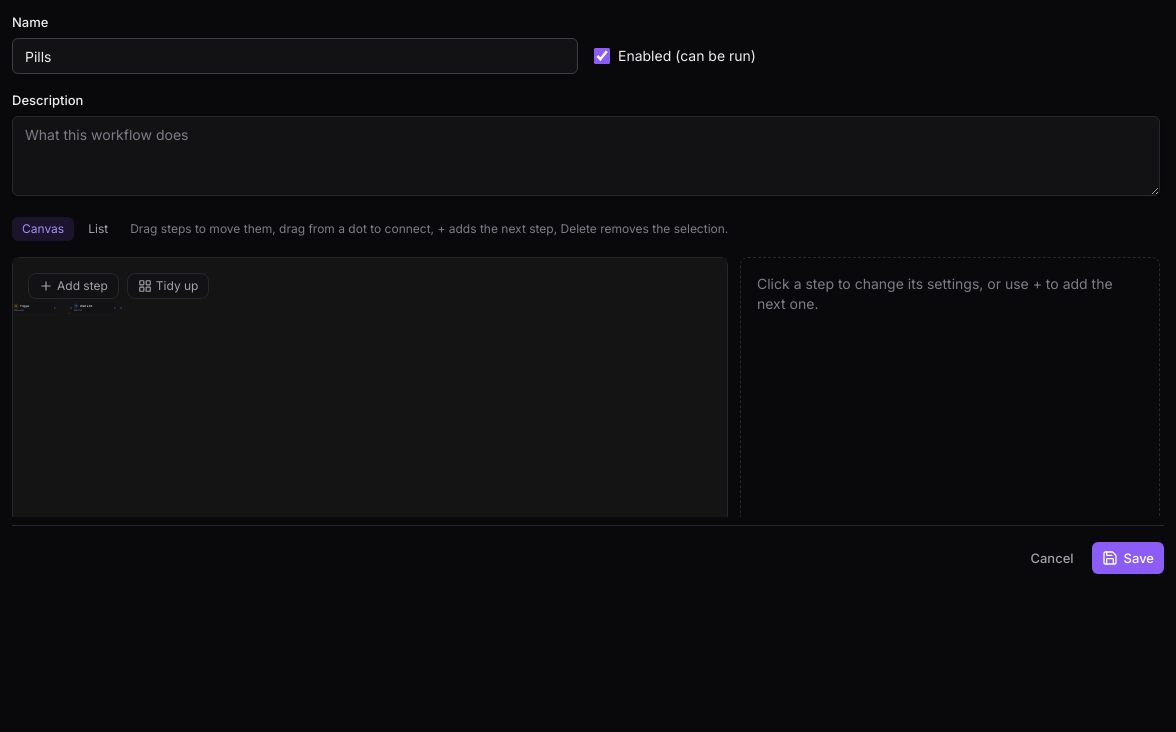
it: the canvas shows every step; clicking one opens its settings beside the canvas
Step 1. Click the text "Wait a bit" → (86, 306), box [80, 304, 92, 308]
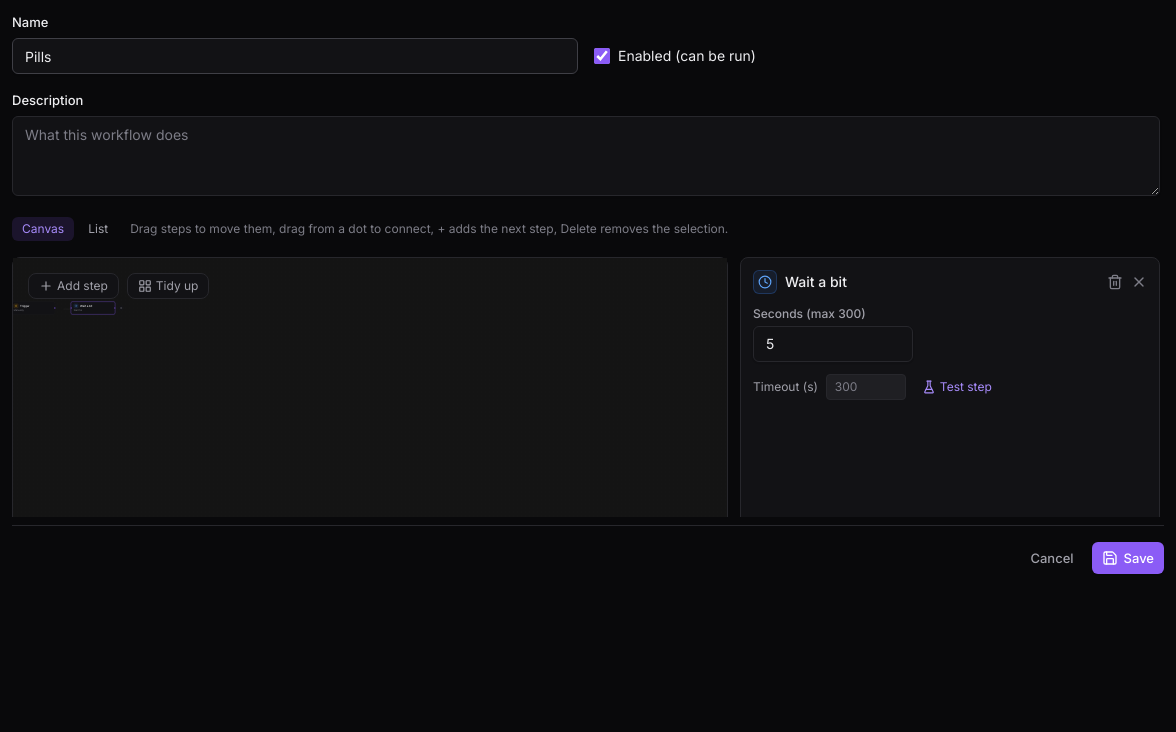
Result: the field named "Step name" holds "Wait a bit" at [785, 272, 1099, 292]
